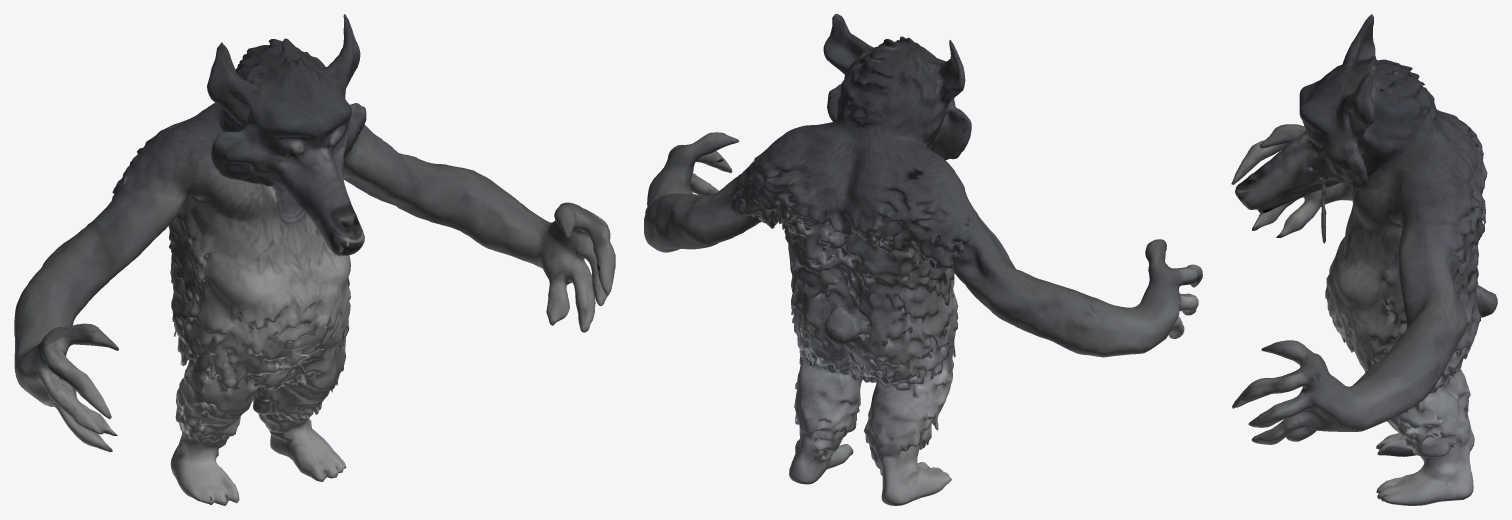
File: wolf.glb
The picture shows the model from 3 angles, left to right: view 1: azimuth 30°, elevation 25°; view 2: azimuth 150°, elevation 25°; view 3: azimuth 270°, elevation 25°; orthographic projection. The views are drawn at different scales.
Size of the model in its own units: 2 by 1.58 by 0.8793.
1 material, 1 textured.
